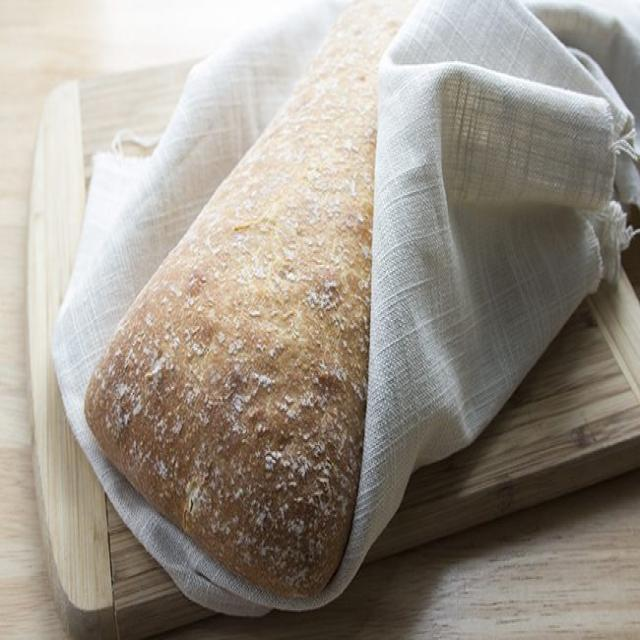Ciabatta: (86, 0, 409, 598)
